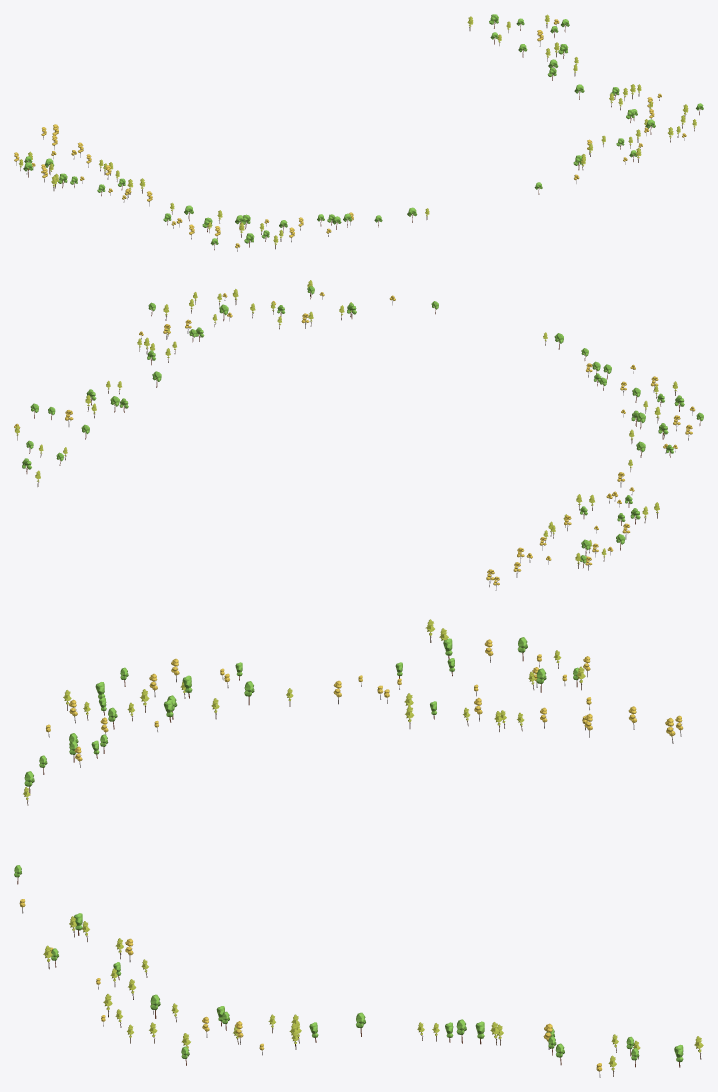
Rendered from vegetation.glb.
3 views of the same model, one above another, from view 1: azimuth 30°, elevation 25°; view 2: azimuth 150°, elevation 25°; view 3: azimuth 270°, elevation 25° (orthographic). The views are drawn at different scales.
Size of the model in its own units: 329 by 29.41 by 227.
Materials: 6 (3 with a texture image).
